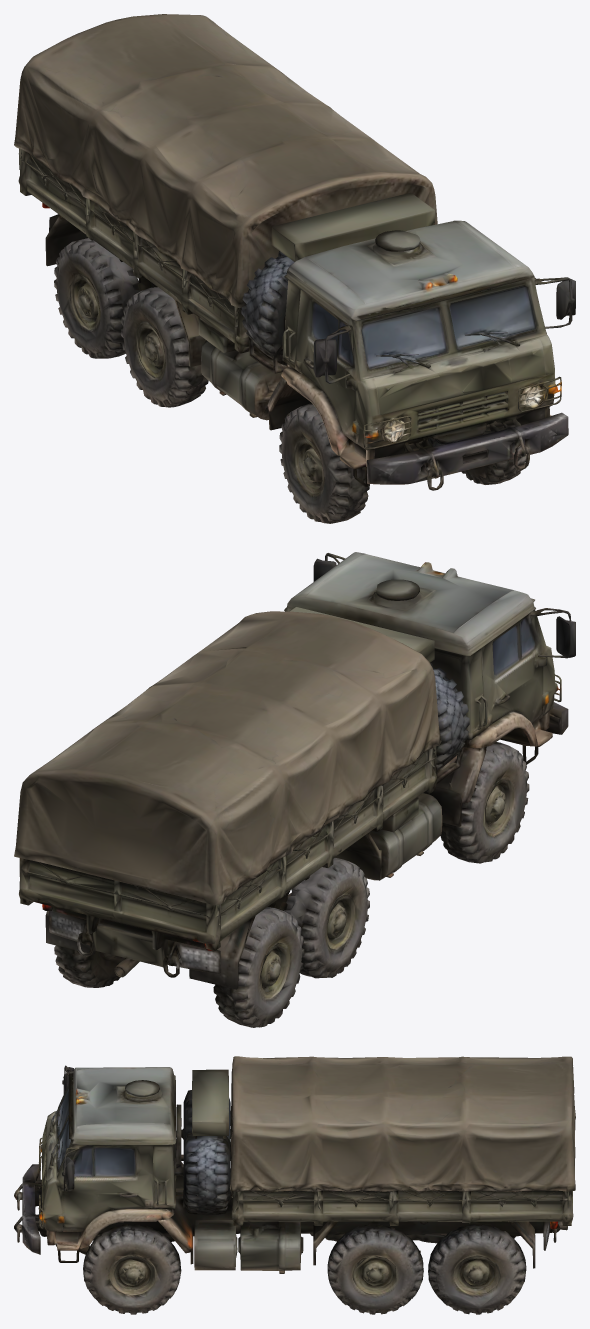
The model's file is car_truck.glb.
3 views of the same model, one above another, from view 1: azimuth 30°, elevation 25°; view 2: azimuth 150°, elevation 25°; view 3: azimuth 270°, elevation 25° (orthographic). The views are drawn at different scales.
Parts seen in each view (by area): view 1: node_0; view 2: node_0; view 3: node_0.
Part boxes in pixels (box(x1,y1,x2,y2)): node_0: box(14, 14, 575, 523); node_0: box(14, 552, 575, 1027); node_0: box(14, 1056, 575, 1314).
Size of the model in its own units: 0.4555 by 0.4509 by 1.11.
Materials: 1 (1 with a texture image).
